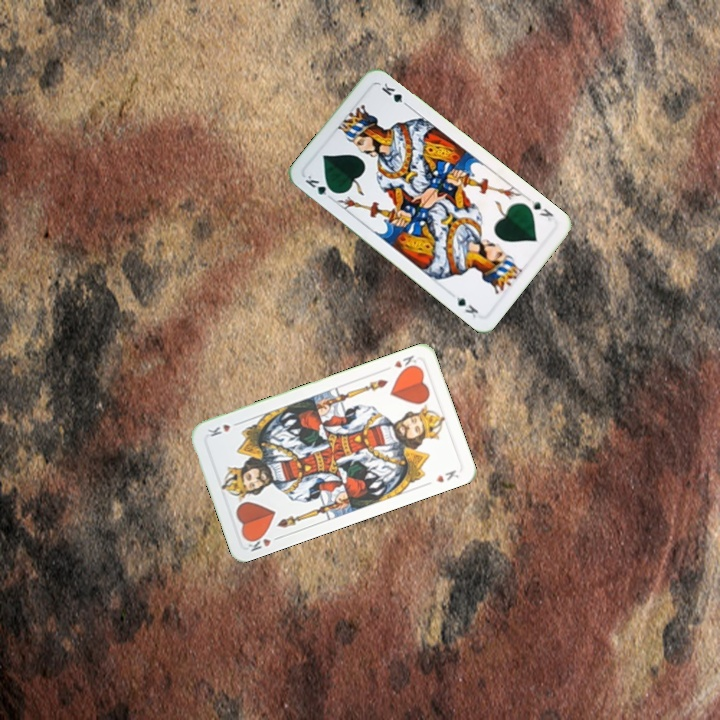GK: (301, 171, 338, 202), (524, 194, 556, 224)
HK: (243, 529, 284, 554), (390, 351, 420, 374)
